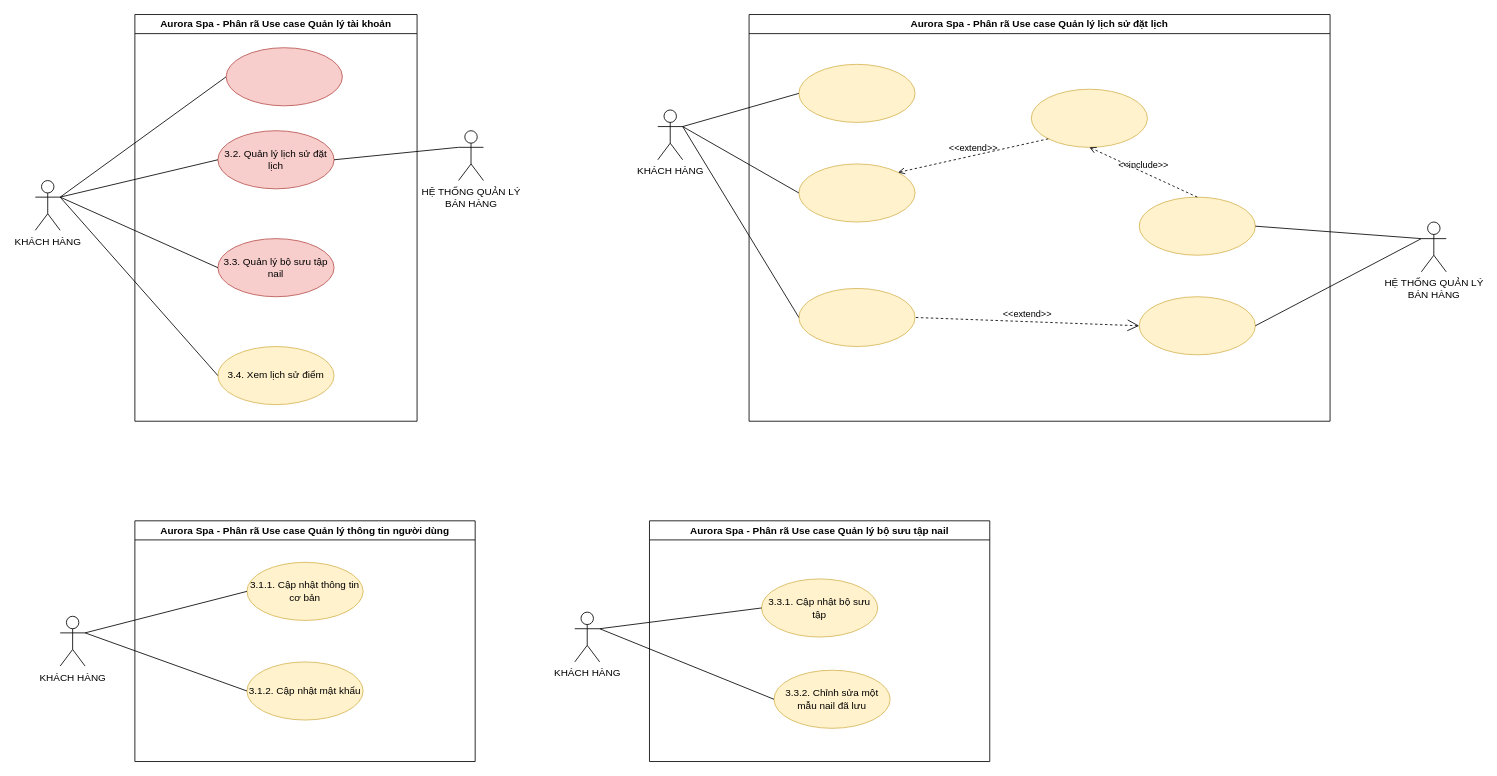
Some shapes in this 1497 by 776 pixel diagram are drawn without their labels. Each missing label, with the centre of its shape:
"3.1. Quản lý thông tin người dùng" belongs at (283,76).
"3.2.1. Đổi lịch" belongs at (856,92).
"3.2.2. Hủy lịch" belongs at (856,192).
"3.2.2.1. Cung cấp thông tin hoàn tiền" belongs at (1088,117).
"3.2.2.2. Hoàn tiền" belongs at (1196,225).
"3.2.3. Đánh giá" belongs at (856,317).
"3.2.3.1. Cập nhật trạng thái đơn hàng" belongs at (1196,325).
